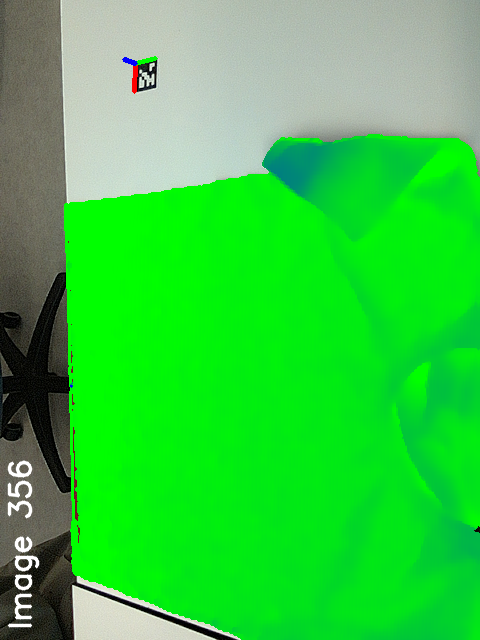V: (327, 203, 388, 248)
